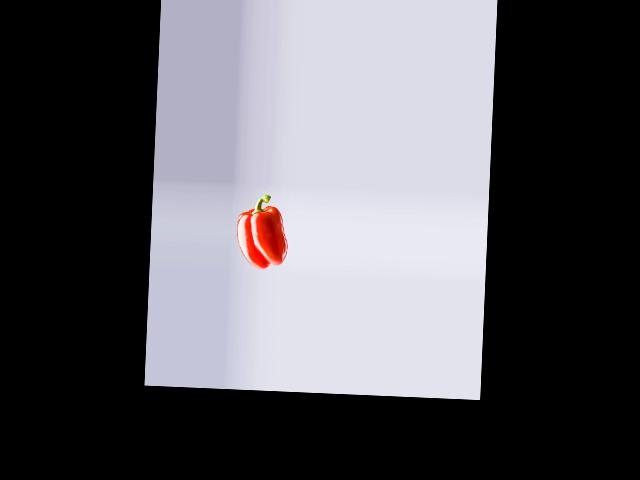bell_pepper: (232, 193, 290, 267)
